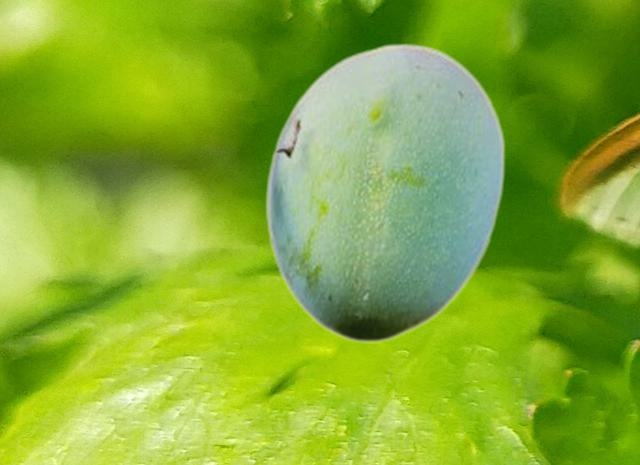green_mango: (264, 42, 505, 342)
